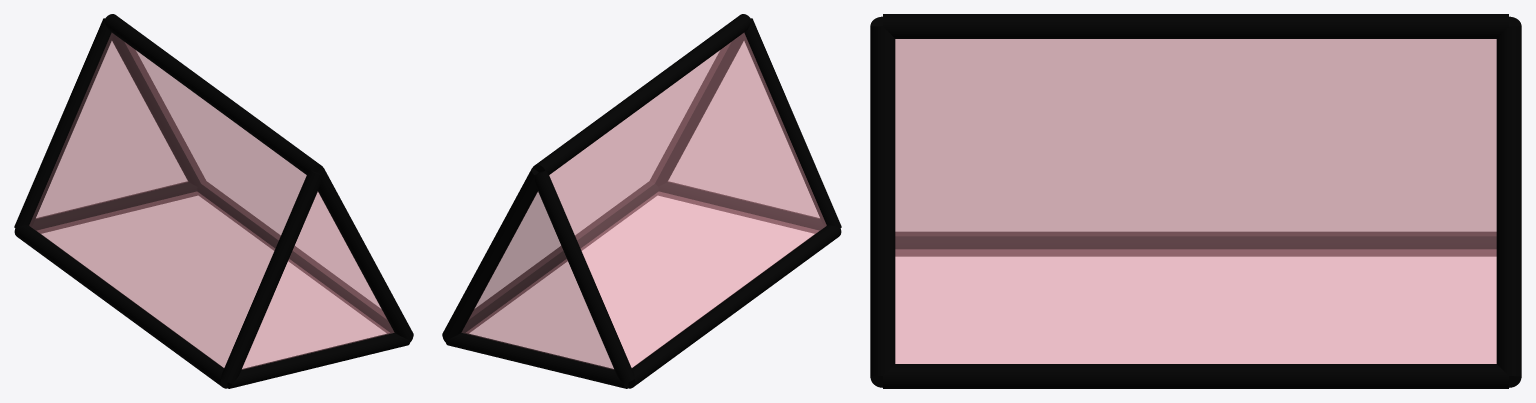
The model's file is triangularprim.fbx.
The picture shows the model from 3 angles, left to right: view 1: azimuth 30°, elevation 25°; view 2: azimuth 150°, elevation 25°; view 3: azimuth 270°, elevation 25°; orthographic projection. The views are drawn at different scales.
Visible parts, largest first — view 1: ReferenceTriangularPrism, PrismEdge.008, PrismEdge.006, PrismEdge.002, PrismEdge.005, PrismEdge.007, PrismEdge.001, PrismEdge, PrismEdge.003, PrismEdge.004; view 2: ReferenceTriangularPrism, PrismEdge.008, PrismEdge.006, PrismEdge.005, PrismEdge.002, PrismEdge.007, PrismEdge.004, PrismEdge.003, PrismEdge, PrismEdge.001; view 3: ReferenceTriangularPrism, PrismEdge.007, PrismEdge.008, PrismEdge.006, PrismEdge.001, PrismEdge.004.
Part boxes in pixels (x1,y1,x2,y2): ReferenceTriangularPrism: (29,33,394,369); PrismEdge.008: (104,14,322,174); PrismEdge.006: (14,225,227,388); PrismEdge.002: (221,170,320,383); PrismEdge.005: (14,18,113,228); PrismEdge.007: (197,181,412,342); PrismEdge.001: (317,167,413,340); PrismEdge: (227,332,410,388); PrismEdge.003: (32,181,197,233); PrismEdge.004: (112,34,205,186); ReferenceTriangularPrism: (461,33,826,369); PrismEdge.008: (533,14,751,174); PrismEdge.006: (628,225,841,388); PrismEdge.005: (535,170,634,383); PrismEdge.002: (742,18,841,228); PrismEdge.007: (443,181,658,342); PrismEdge.004: (442,167,538,340); PrismEdge.003: (445,332,628,388); PrismEdge: (658,181,823,233); PrismEdge.001: (650,34,743,186); ReferenceTriangularPrism: (895,39,1496,363); PrismEdge.007: (883,364,1508,388); PrismEdge.008: (883,14,1508,38); PrismEdge.006: (895,232,1496,256); PrismEdge.001: (870,26,895,376); PrismEdge.004: (1496,26,1521,376).
Bounding box in the file's own units: 108 × 108 × 208.
